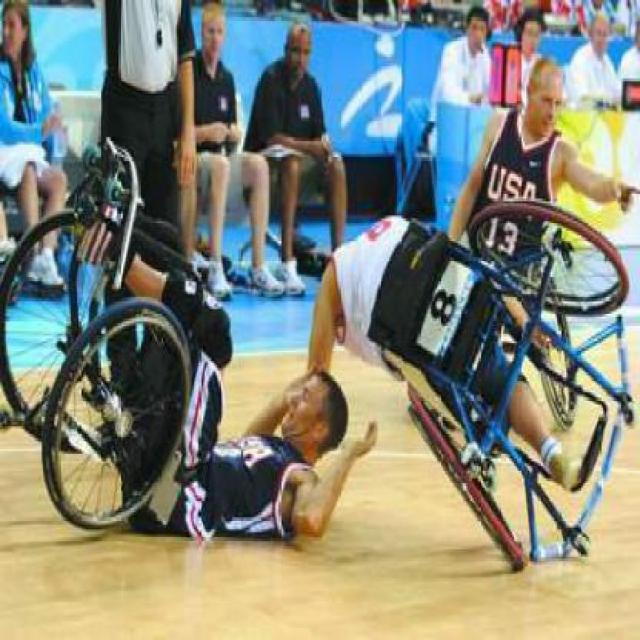fall: (53, 171, 378, 547)
